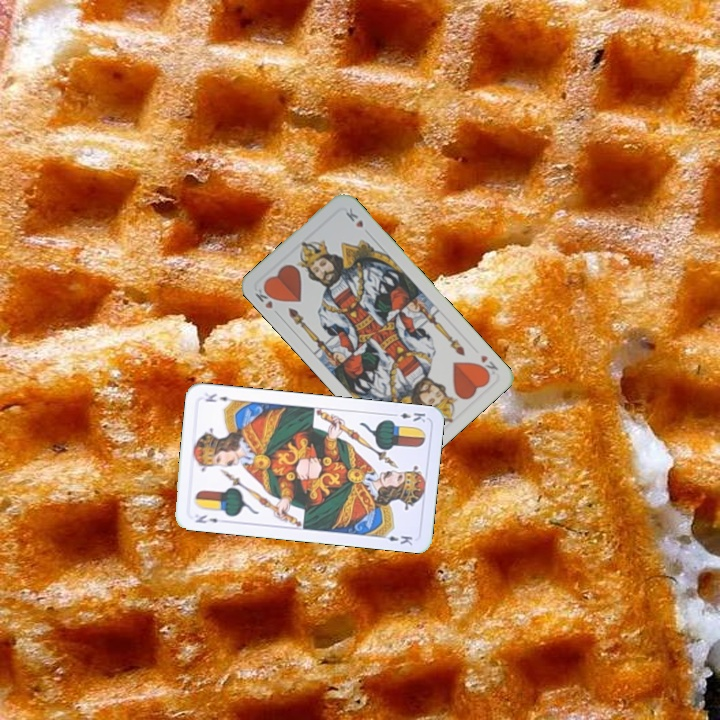EK: (388, 409, 428, 425), (191, 511, 220, 526)
HK: (473, 351, 501, 379), (251, 283, 278, 311)
